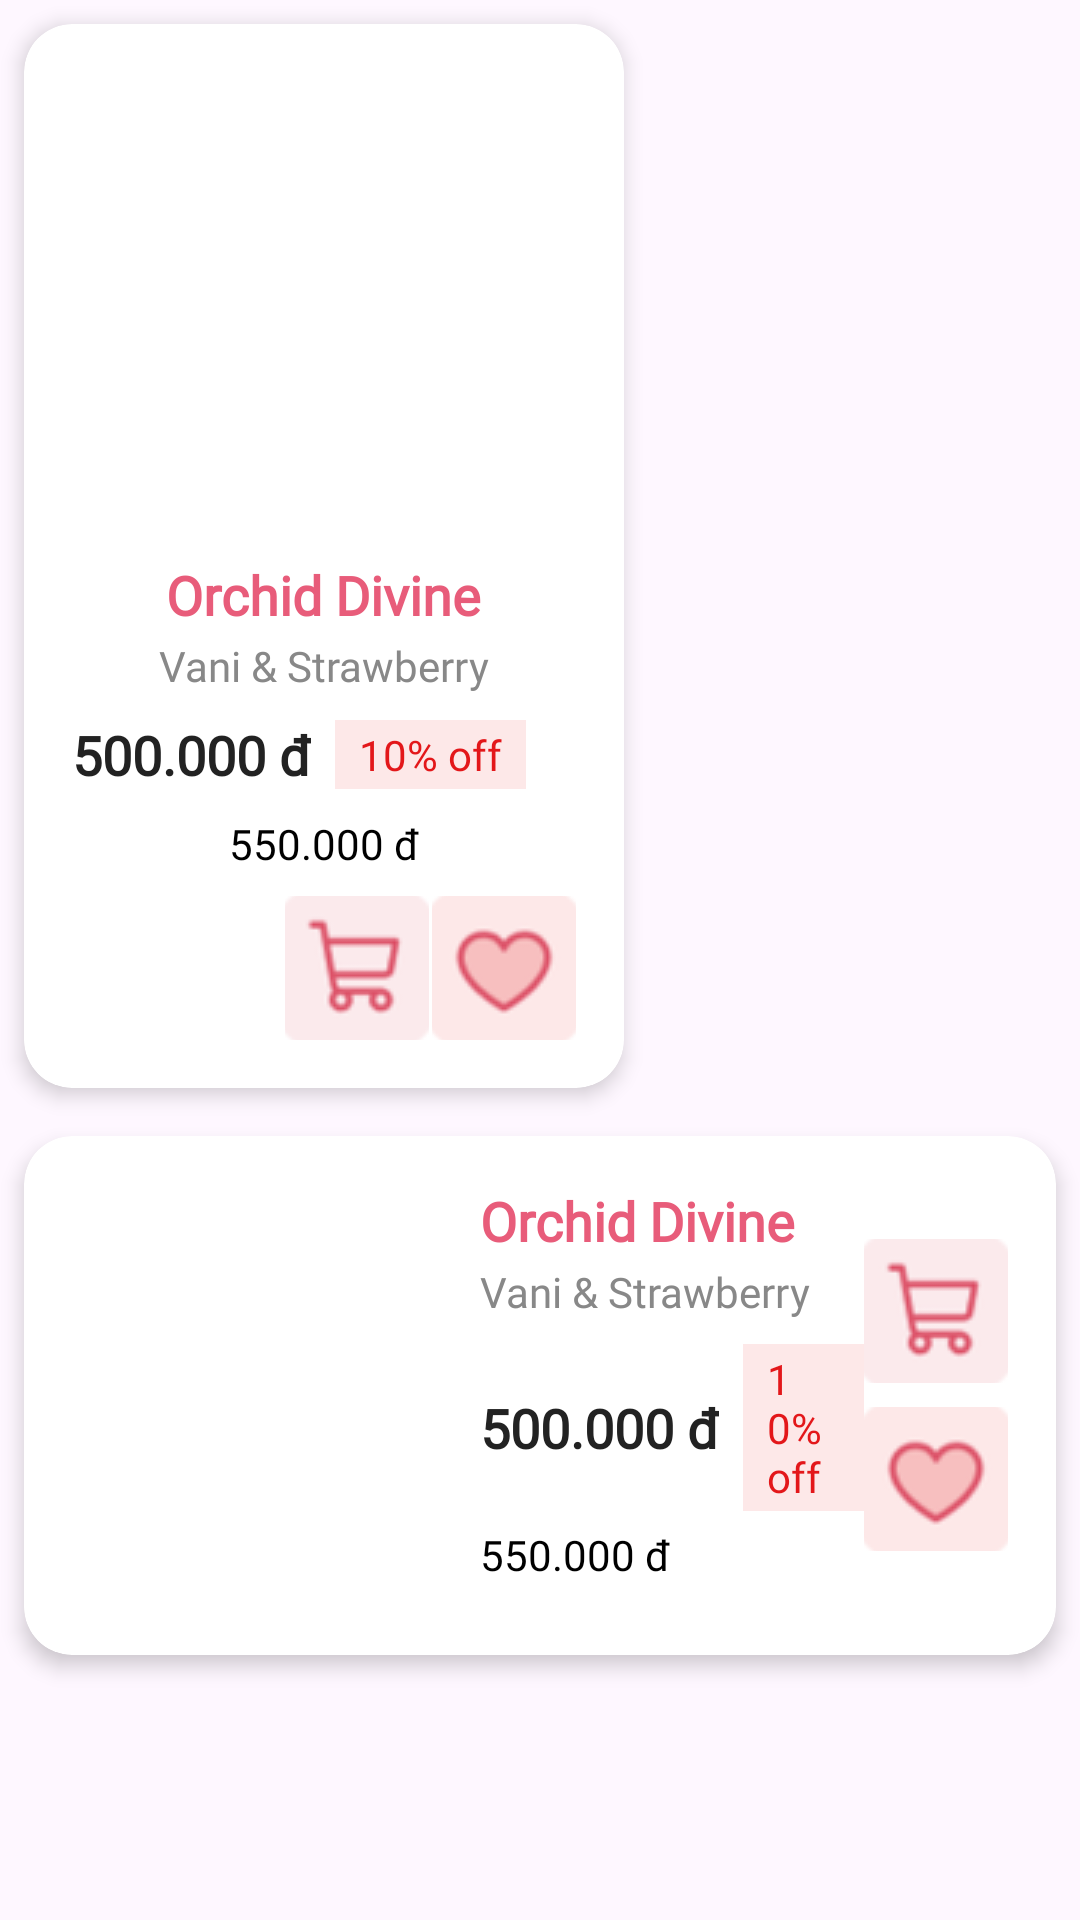

Where icons sit on this 1080px×1920px app screen, as (x1, y1, x2, y2):
Click this to add the product into your wishlist!: (452, 928, 556, 1014), (884, 1439, 988, 1525)
Click this to add your product into your cart!: (285, 896, 429, 1040), (864, 1239, 1008, 1383)
